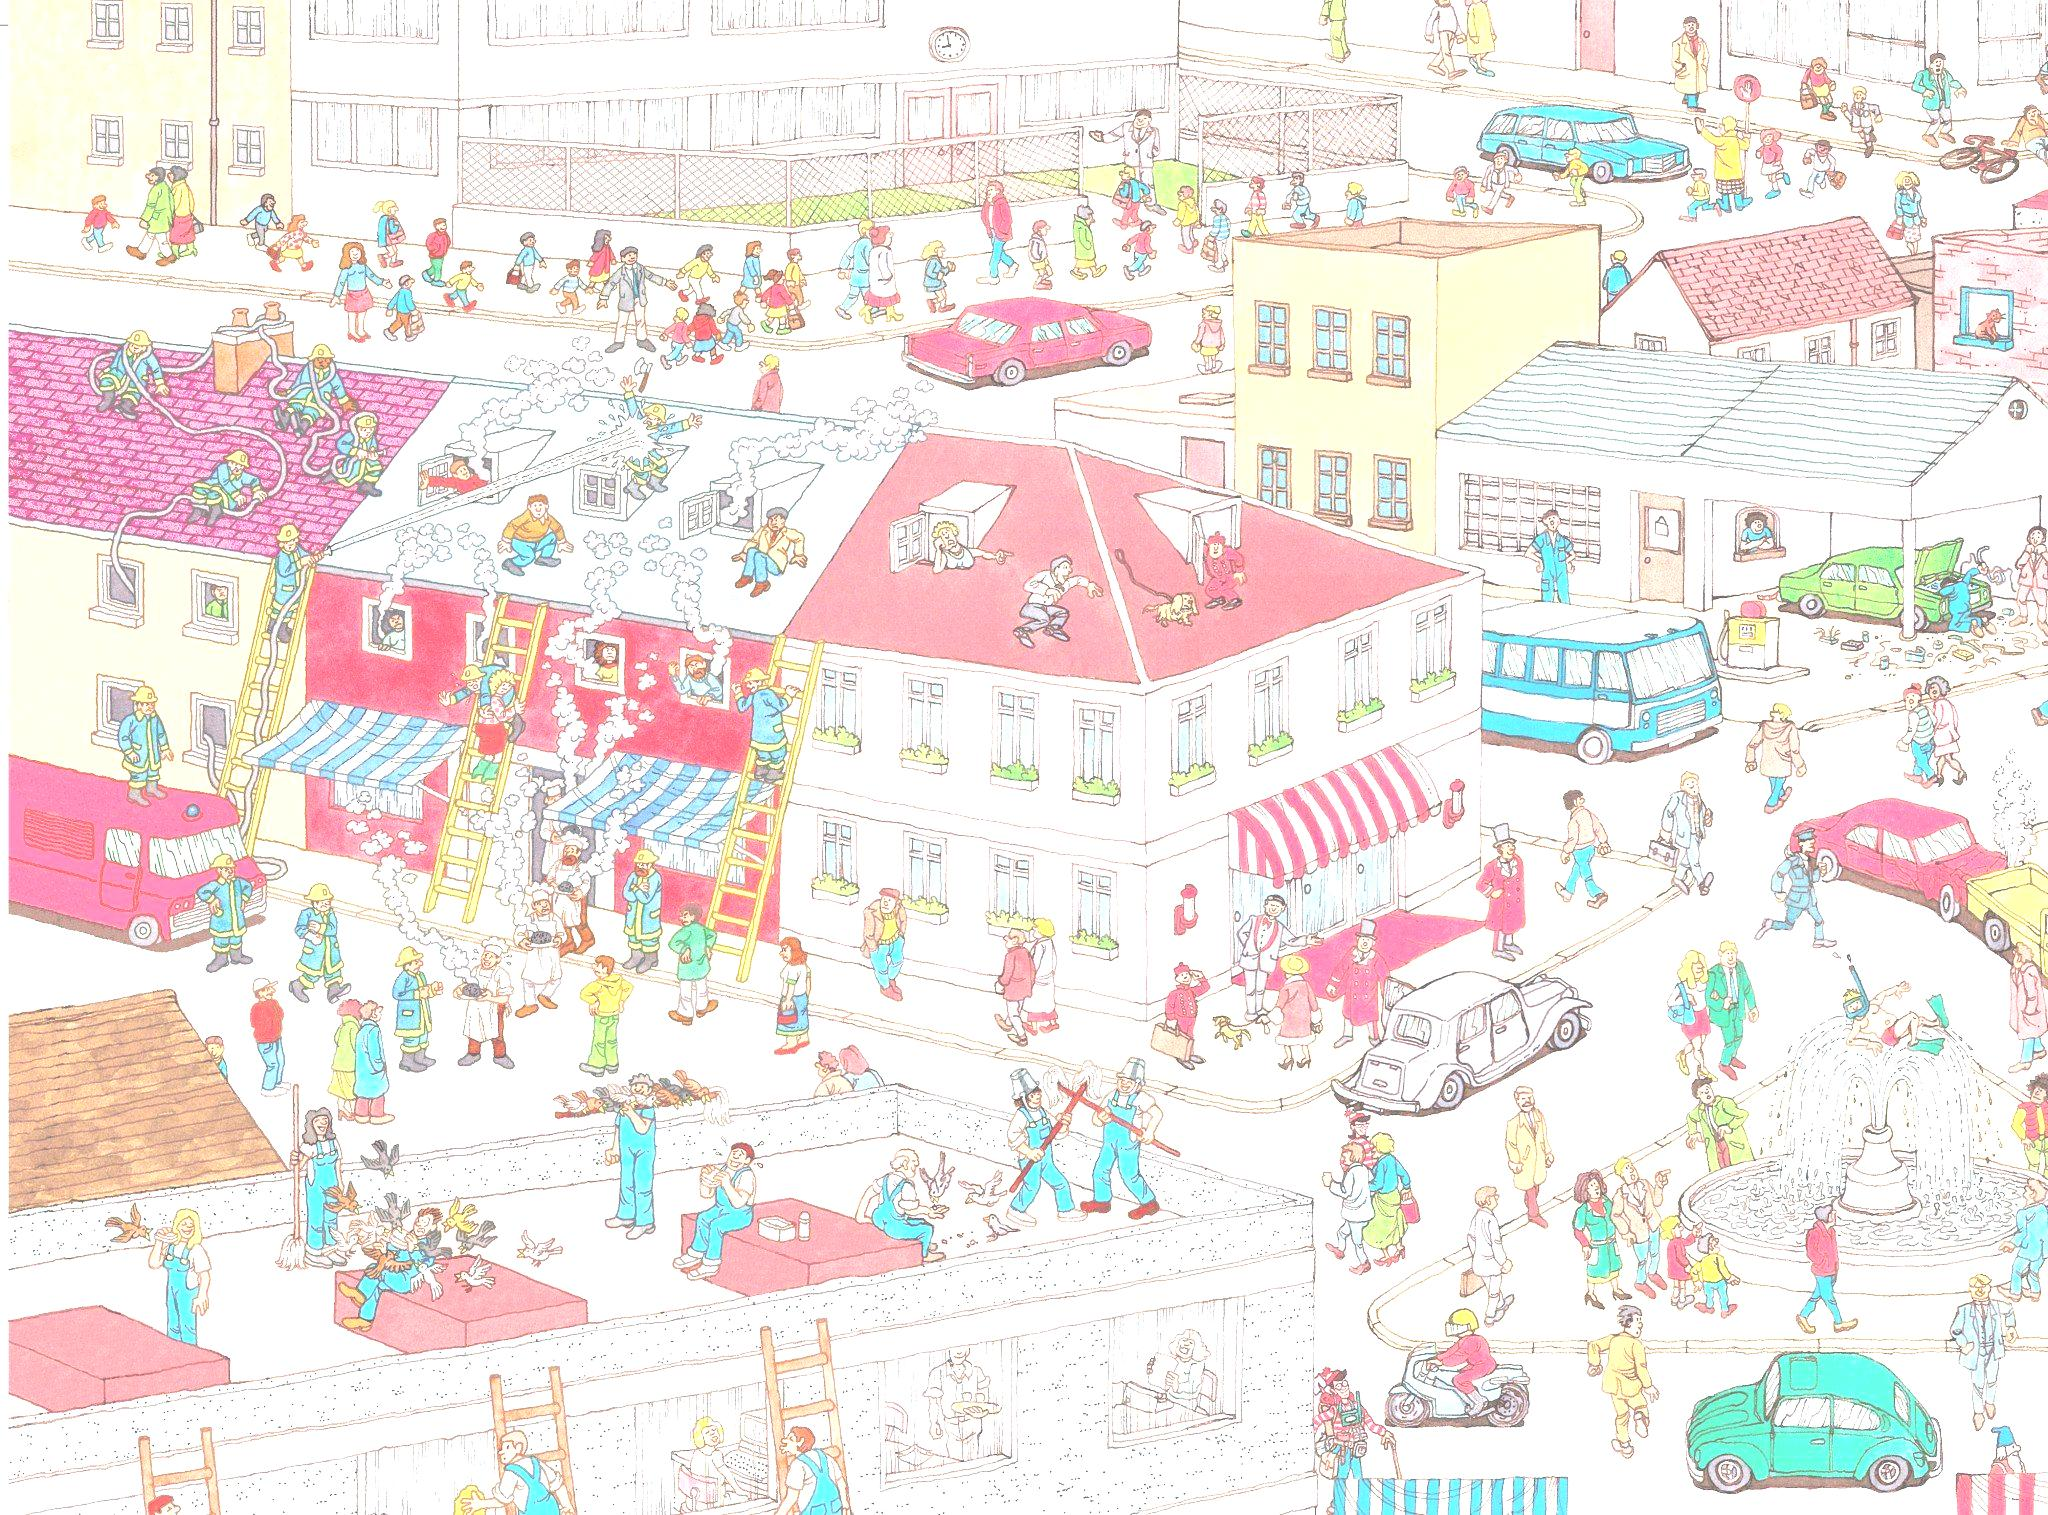waldos: (1314, 1369, 1404, 1515)
